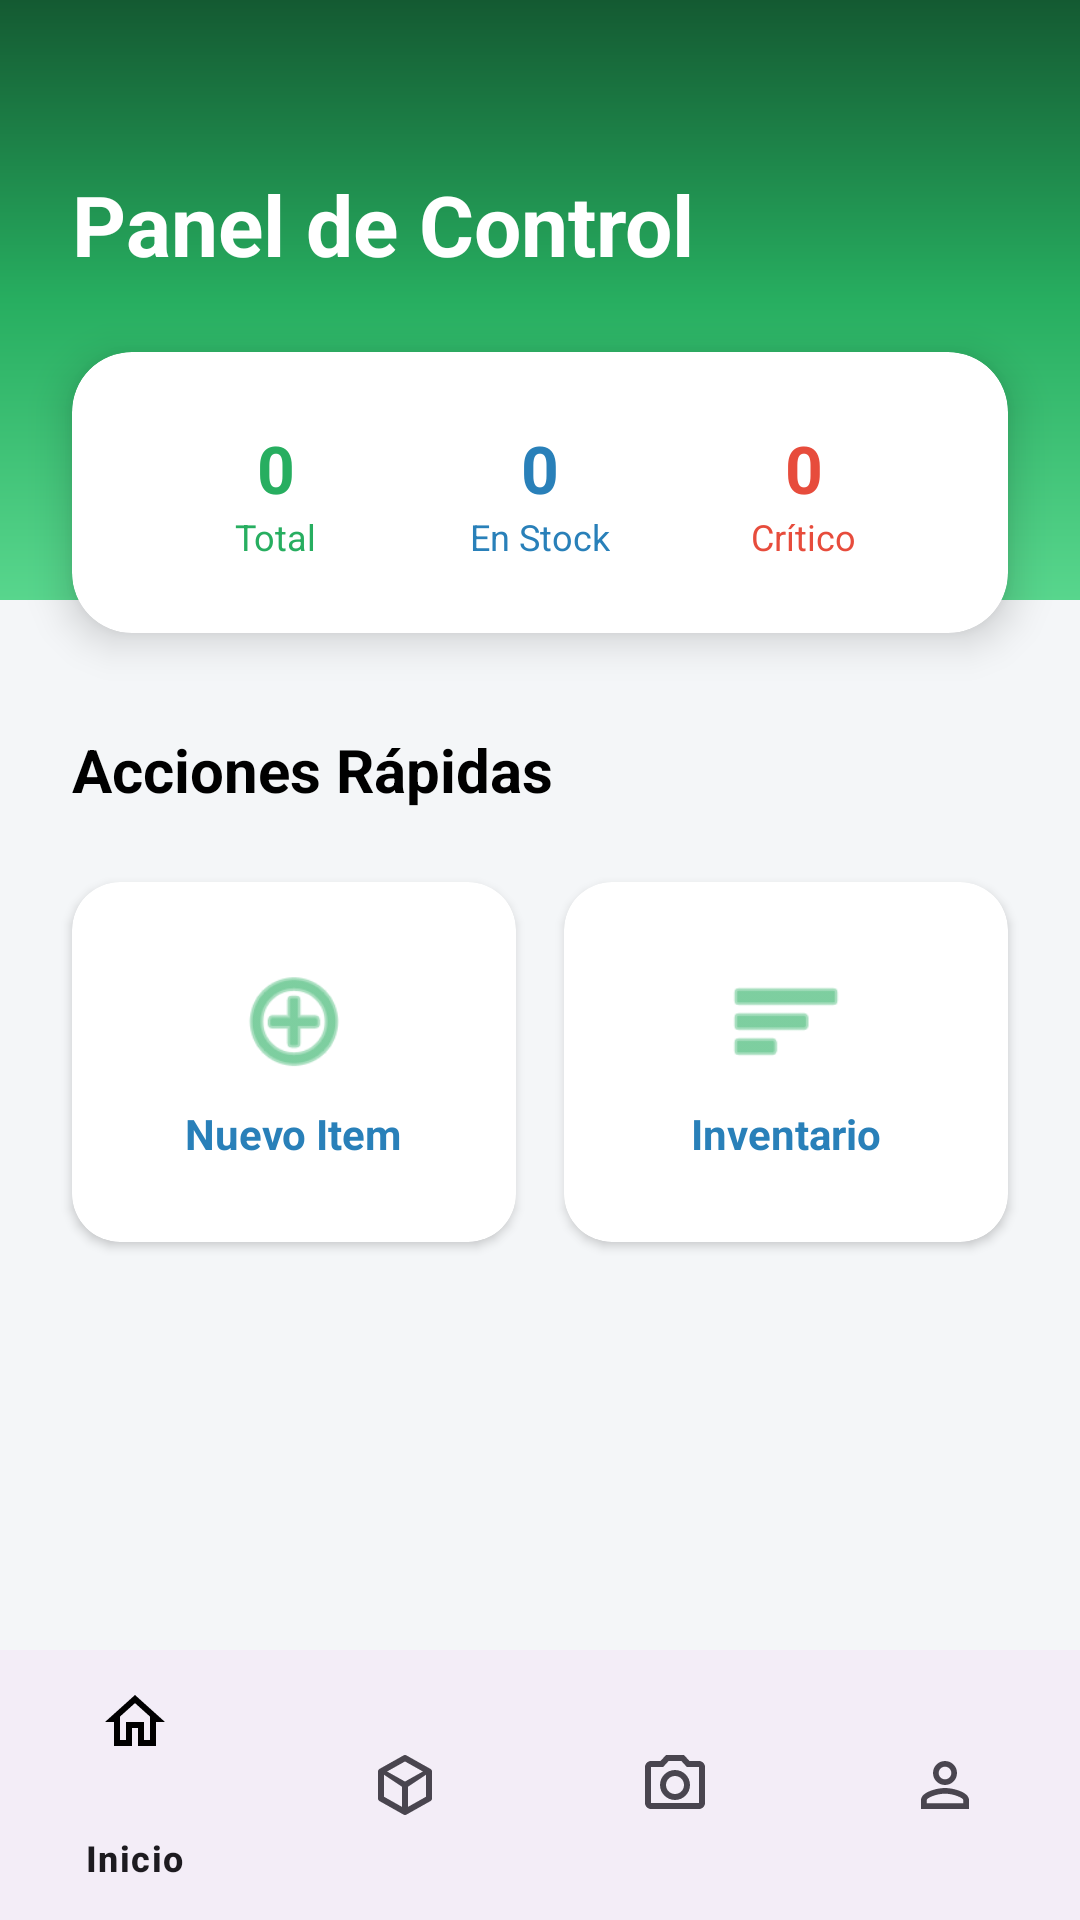

Icon bounding boxes for this 1080 x 1920 phone screenshot, format Rect(x1, y1, x2, y2):
Añadir: Rect(249, 977, 339, 1066)
